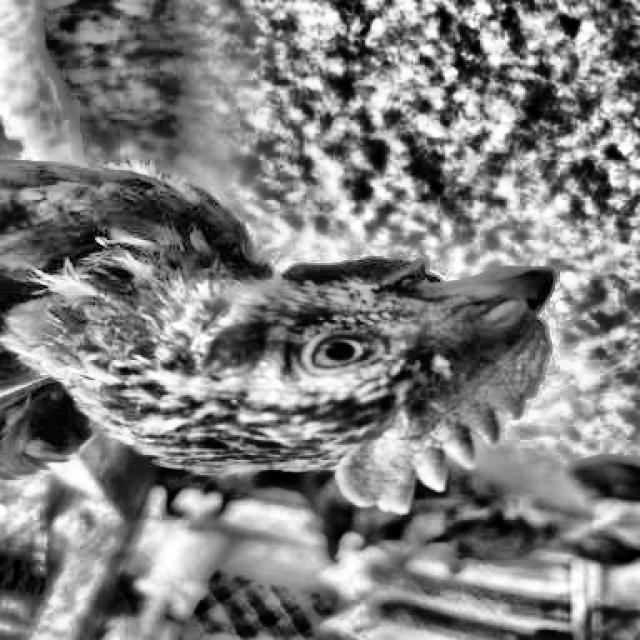Healthy: (295, 318, 398, 387)
